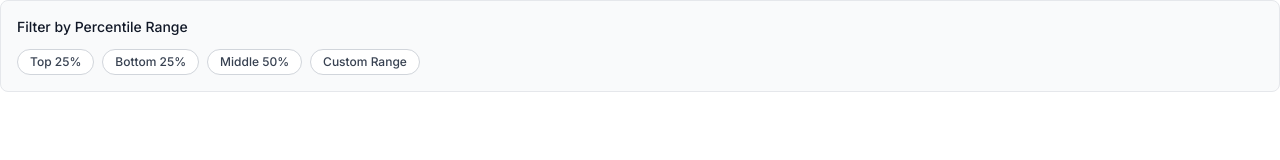
Scenario: PercentileFilter Component › should show custom range inputs when Custom Range is clicked
Click the button "Custom Range" at [365, 62], box [310,49,420,75]
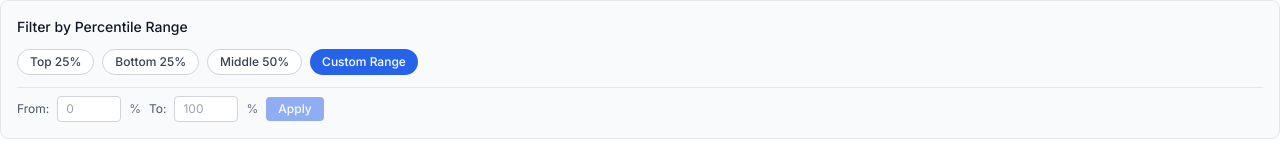
Check: the number field with placeholder "0" is shown, box [57,96,121,122]
Check: the number field with placeholder "100" is shown, box [174,96,238,122]
Check: the button "Apply" is shown, box [266,97,324,121]
